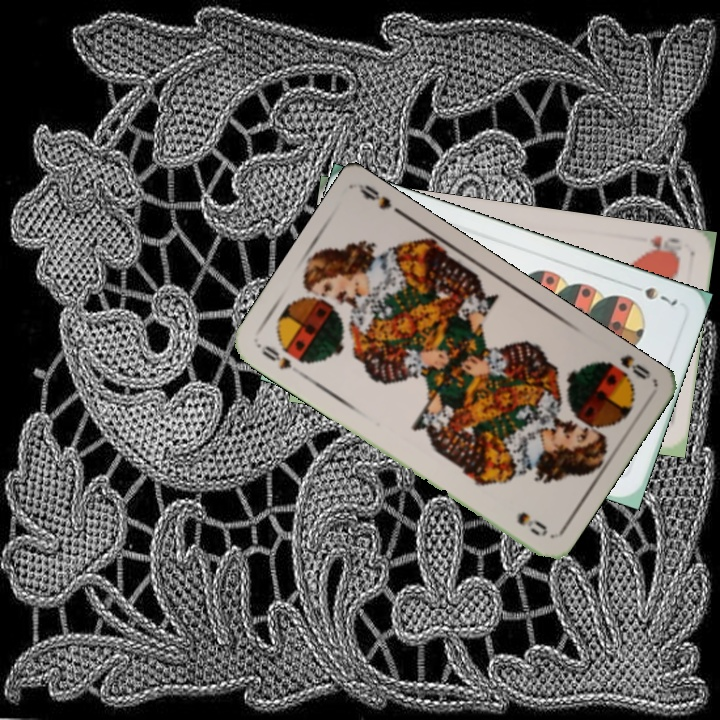HO: (641, 232, 683, 261)
S7: (640, 283, 680, 309)
SO: (257, 341, 308, 380), (597, 350, 654, 384)
